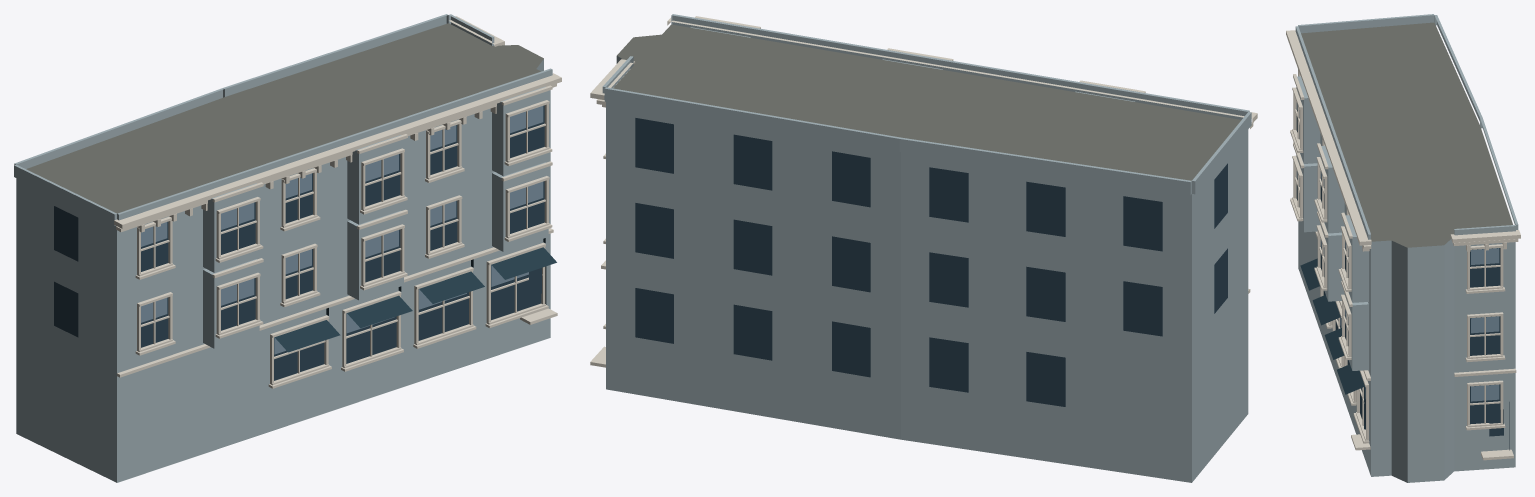
3 views of the same model, side by side, from view 1: azimuth 30°, elevation 25°; view 2: azimuth 150°, elevation 25°; view 3: azimuth 270°, elevation 25° (orthographic). The views are drawn at different scales.
Parts seen in each view (by area): view 1: Footprint 0 / surface 2, Footprint 0 / surface 1, Cornices and window frames, Facade bay volumes, Inset glazing, Sky reflection panels, Storefronts and doors; view 2: Footprint 0 / surface 2, Footprint 0 / surface 1, Inset glazing, Facade bay volumes, Cornices and window frames; view 3: Footprint 0 / surface 1, Footprint 0 / surface 2, Cornices and window frames, Facade bay volumes, Inset glazing, Storefronts and doors, Sky reflection panels.
Boxes of the visible parts, box(x1,y1,x2,y2) form: Footprint 0 / surface 2: box(16, 59, 550, 482); Footprint 0 / surface 1: box(26, 23, 543, 213); Cornices and window frames: box(114, 16, 561, 388); Facade bay volumes: box(14, 14, 552, 348); Inset glazing: box(54, 105, 544, 380); Sky reflection panels: box(141, 106, 543, 354); Storefronts and doors: box(275, 238, 556, 352); Footprint 0 / surface 2: box(606, 56, 1248, 482); Footprint 0 / surface 1: box(613, 24, 1241, 180); Inset glazing: box(635, 118, 1227, 406); Facade bay volumes: box(602, 14, 1251, 195); Cornices and window frames: box(590, 16, 1257, 367); Footprint 0 / surface 1: box(1301, 22, 1512, 247); Footprint 0 / surface 2: box(1298, 133, 1515, 482); Cornices and window frames: box(1286, 30, 1520, 460); Facade bay volumes: box(1295, 14, 1518, 370); Inset glazing: box(1296, 109, 1503, 436); Storefronts and doors: box(1300, 258, 1509, 450); Sky reflection panels: box(1296, 102, 1499, 401).
Size of the model in its own units: 23.2 by 11.58 by 10.17.
